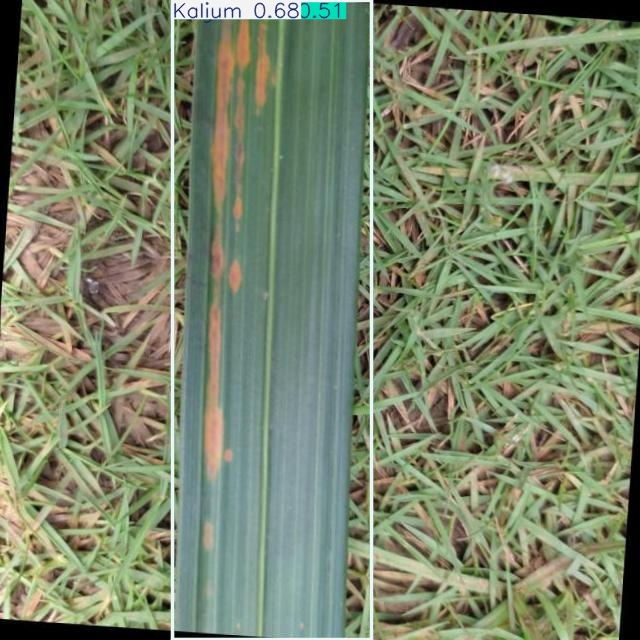Kalium: (173, 0, 371, 639)
Megnesium: (172, 0, 371, 640)
